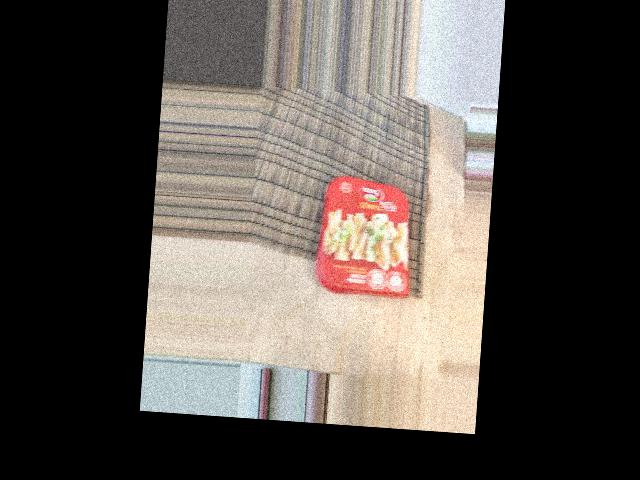cheese: (246, 160, 379, 258)
